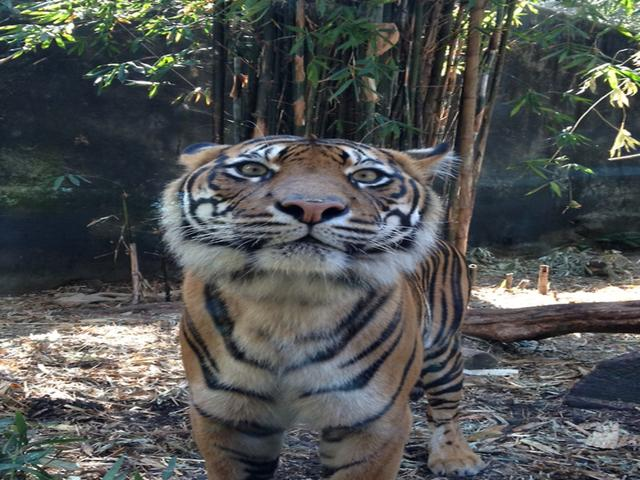tiger: (103, 112, 509, 475)
